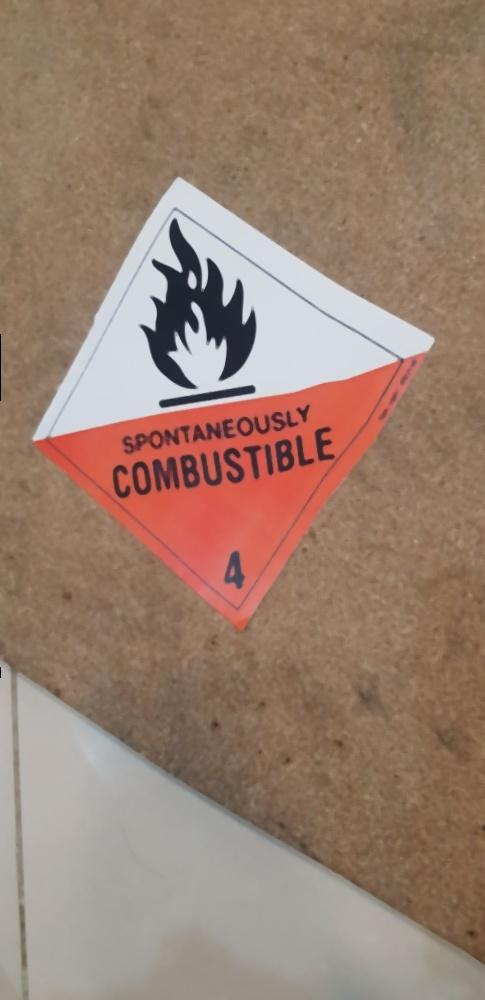spontaneously-combustible: (30, 178, 434, 633)
